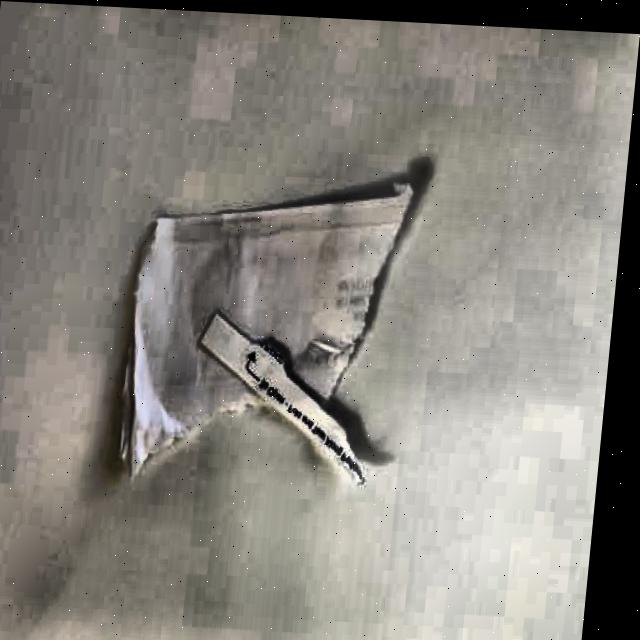paper: (111, 166, 415, 494)
